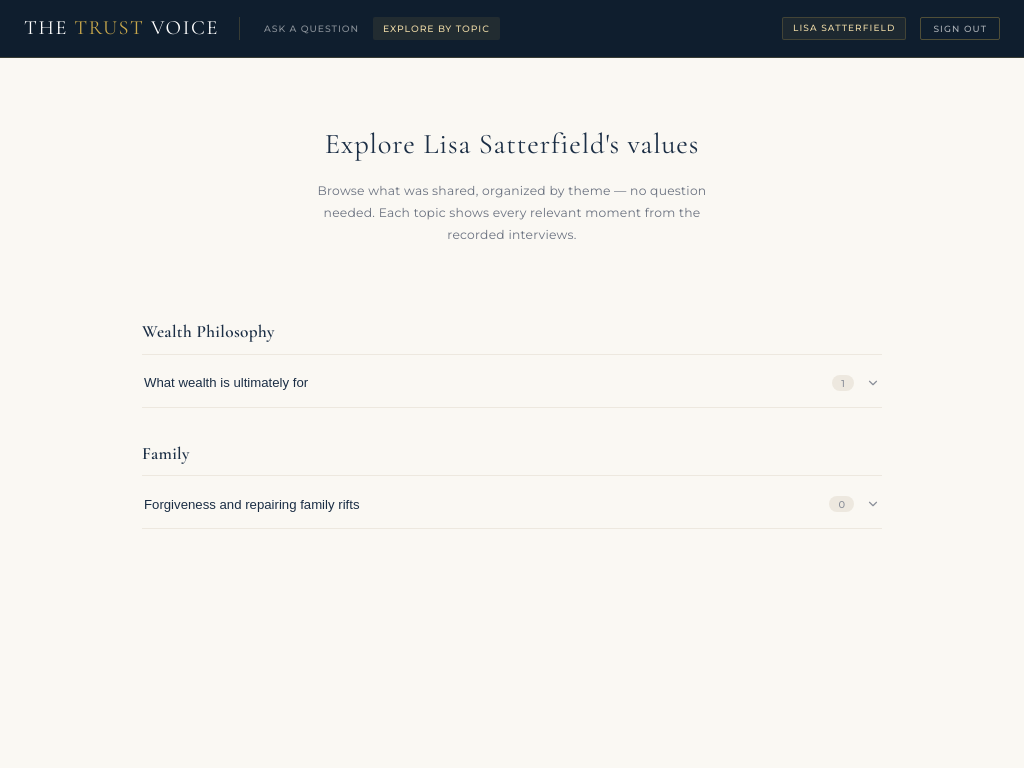
Test: ExploreByTopic › expanding a theme with no tagged content shows a graceful empty state
Click the text "Forgiveness and repairing family rifts".
click(252, 504)  # box [144, 497, 360, 512]
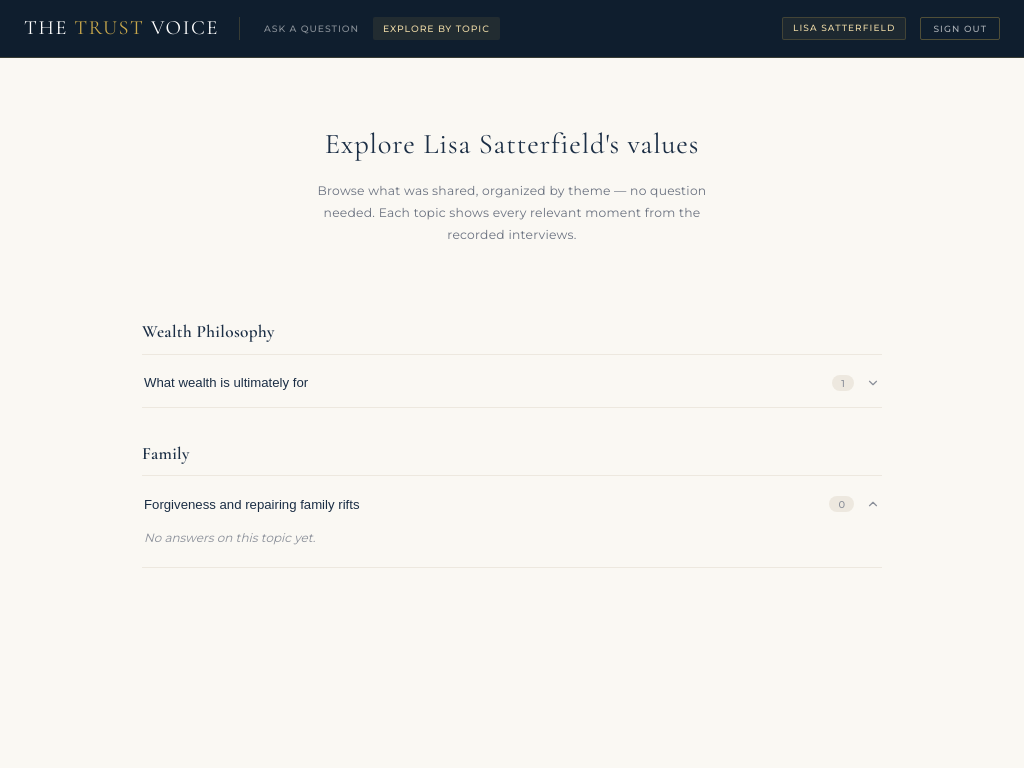
Expected: the text "No answers on this topic yet." is shown, [144, 530, 315, 545]
